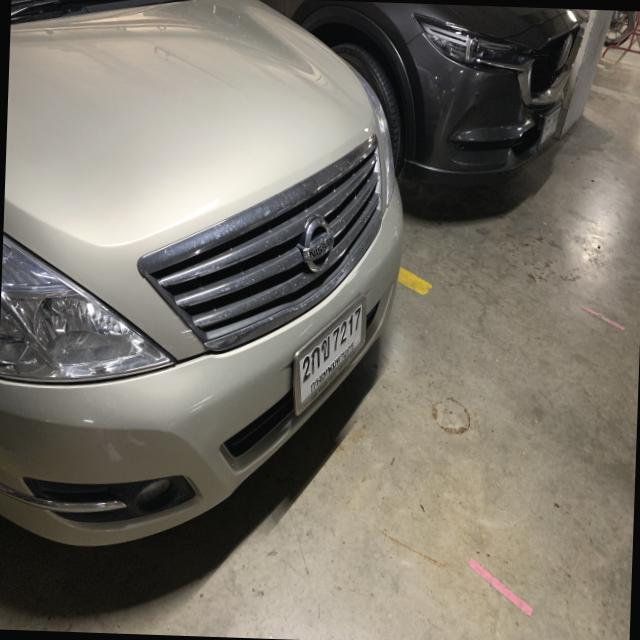license_plate: (287, 286, 370, 424), (538, 100, 564, 152)
